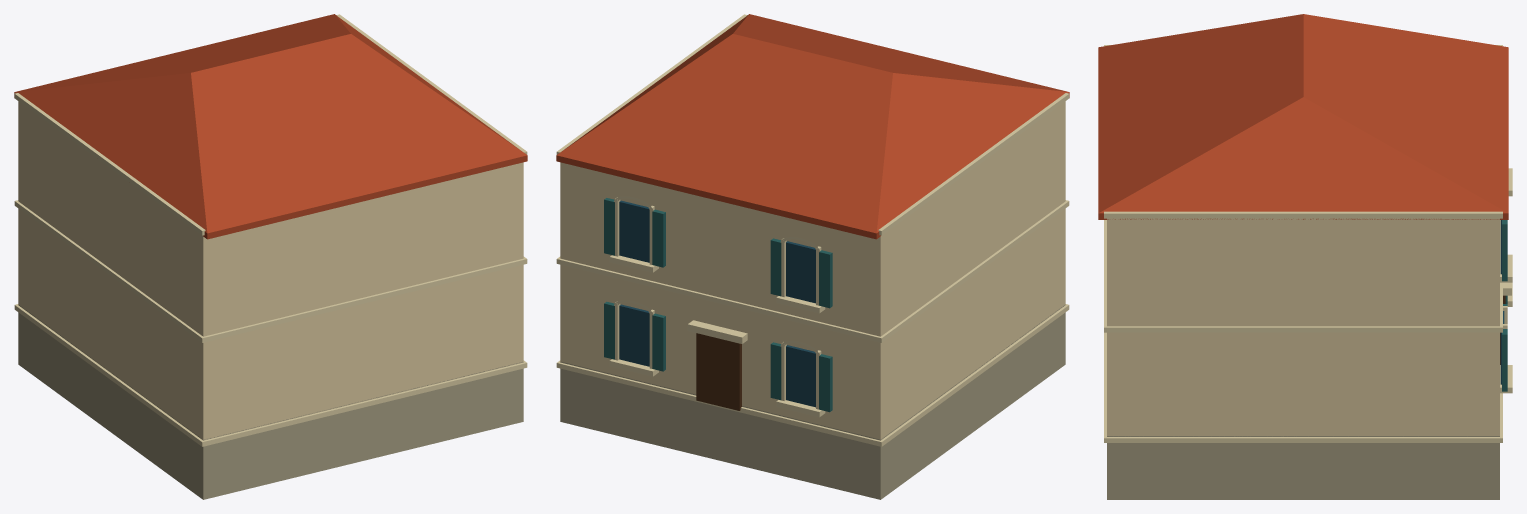
The model's file is wide_house.glb.
3 renders of one model, left to right at view 1: azimuth 30°, elevation 25°; view 2: azimuth 150°, elevation 25°; view 3: azimuth 270°, elevation 25°, orthographic. The views are drawn at different scales.
Parts seen in each view (by area): view 1: House; view 2: House; view 3: House.
Part boxes in pixels (x1,y1,x2,y2): House: (14,14,527,499); House: (556,14,1069,499); House: (1098,14,1512,499).
Bounding box in the file's own units: 10.15 × 10.14 × 10.54.
